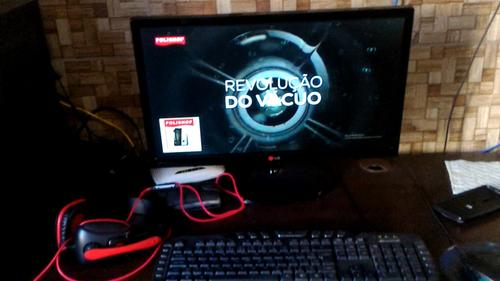Polishop #1: (158, 117, 203, 153)
